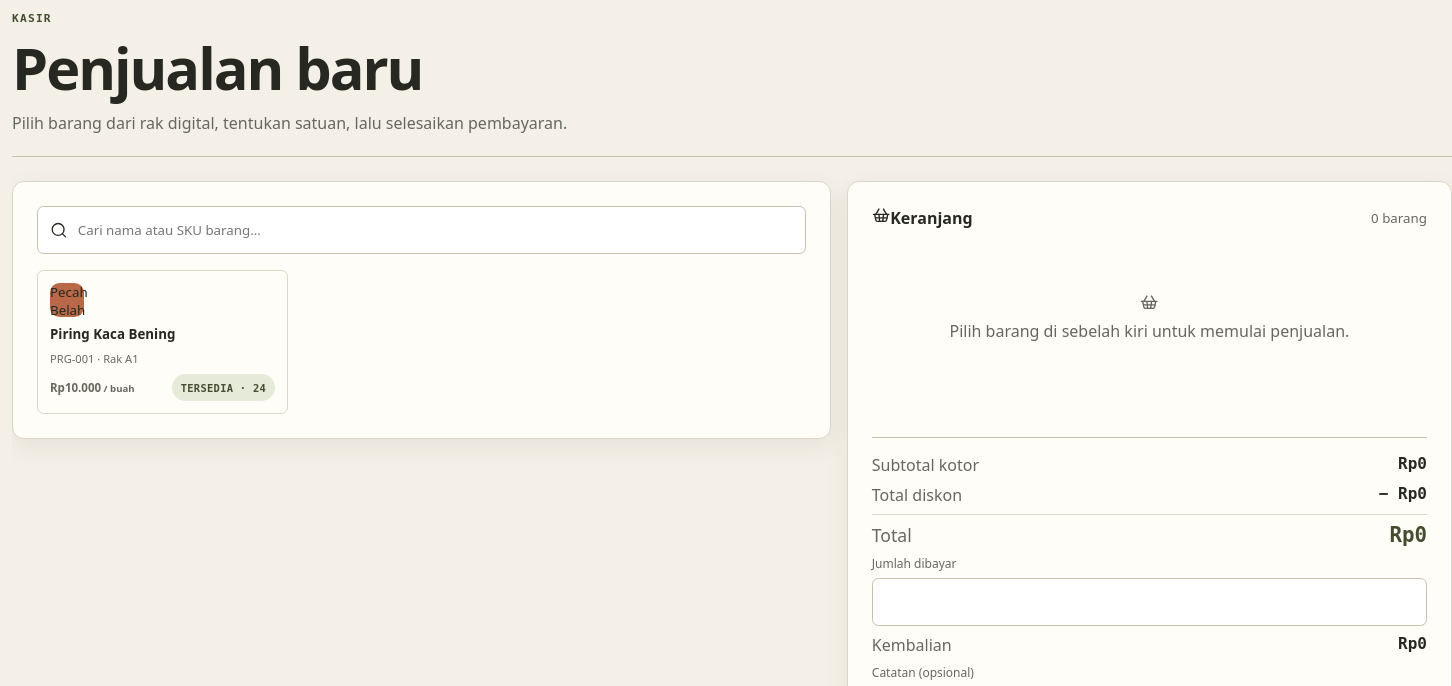
it: SalesPage › resets the line discount when its selling unit changes
The width and height of the screenshot is (1452, 686).
Click the button "Piring Kaca Bening" at (162, 342), box [37,270,288,414]
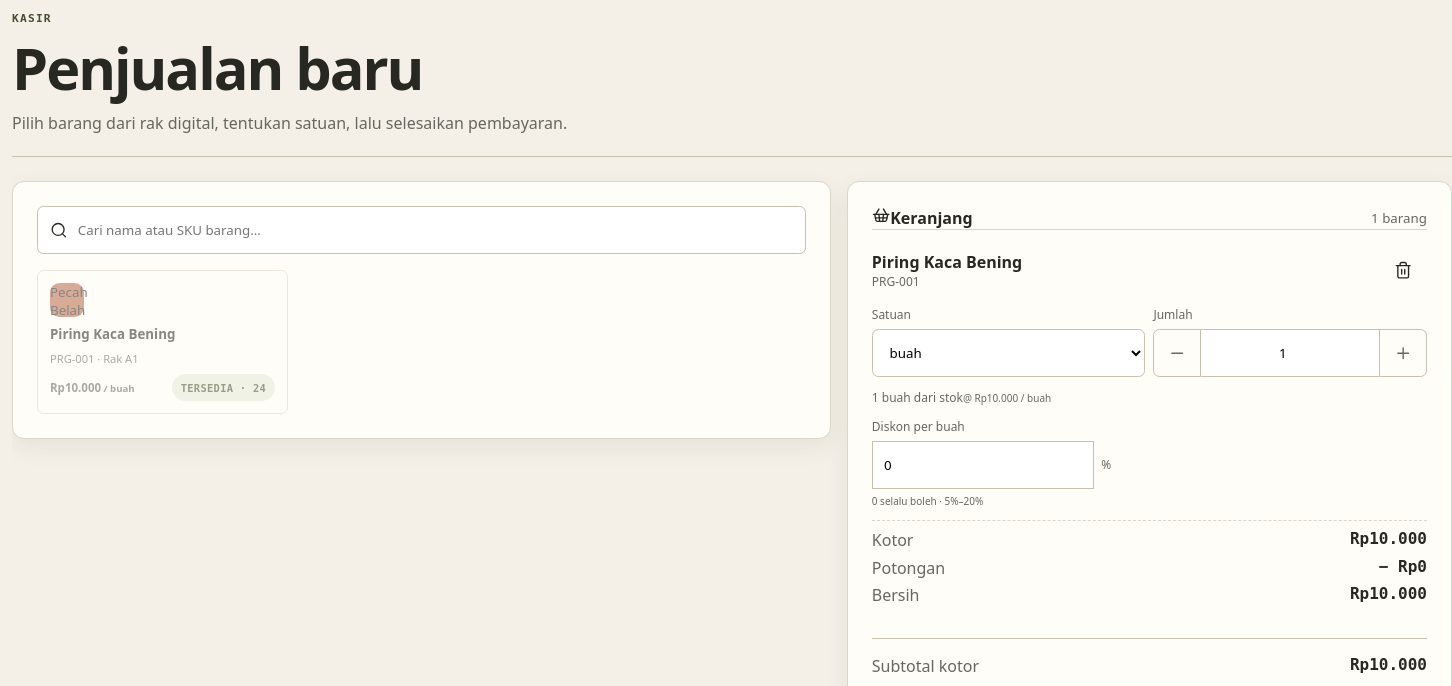
Replace the text in the number field named "Diskon per satuan" with "10" at (983, 465), box [872,441,1094,489]
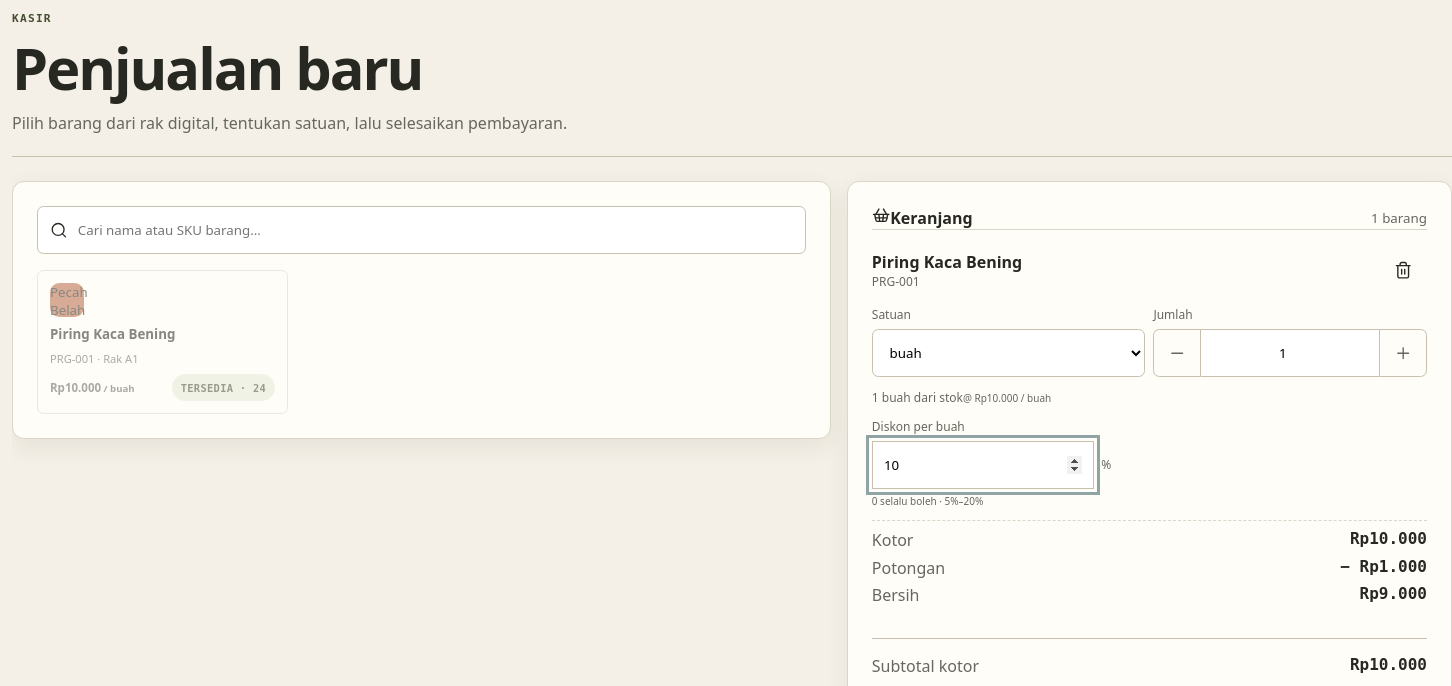
Select "lusin" in the dropdown labelled "Satuan" at (1009, 353), box [872,329,1145,377]
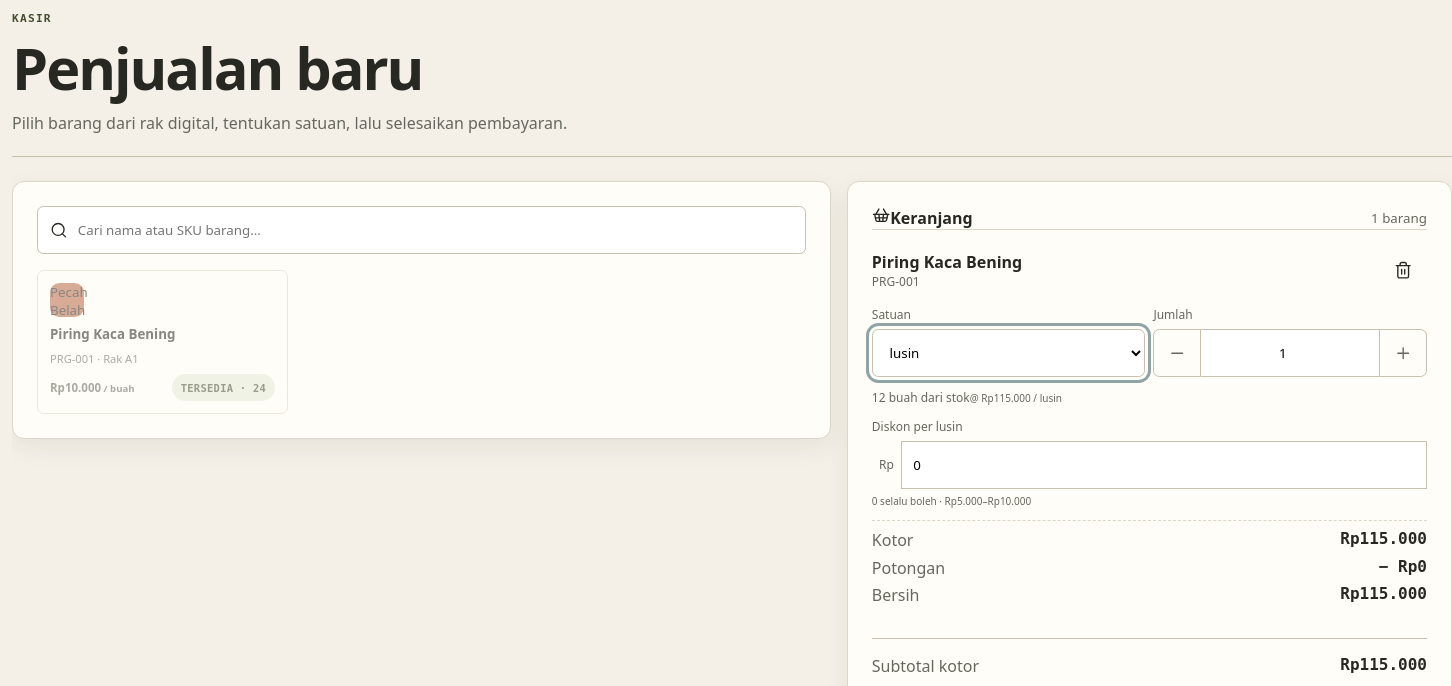
Now the number field named "Diskon per satuan" holds "0", box [901,441,1427,489]
